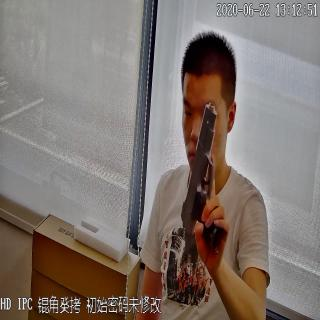gun: (177, 102, 234, 255)
